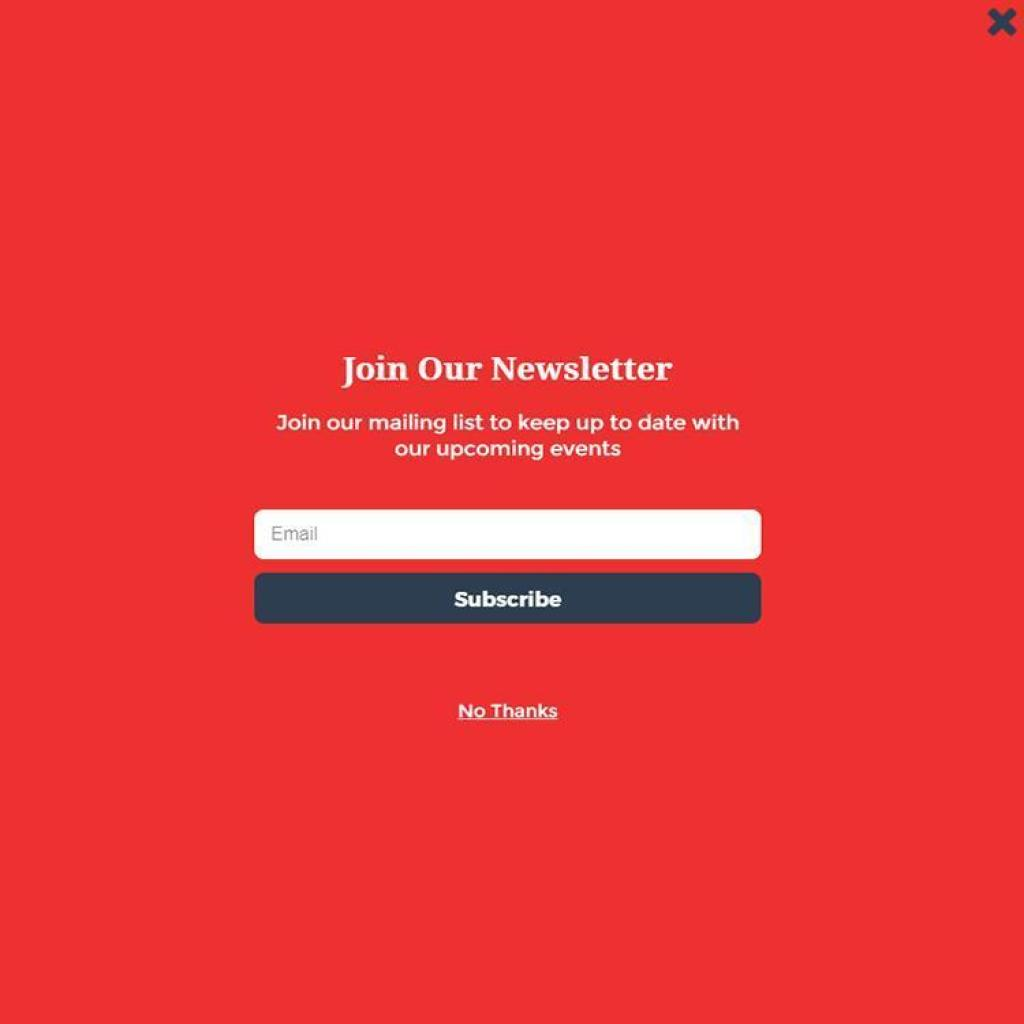button: (257, 571, 762, 626)
icon: (984, 2, 1020, 36)
input: (254, 505, 765, 558)
